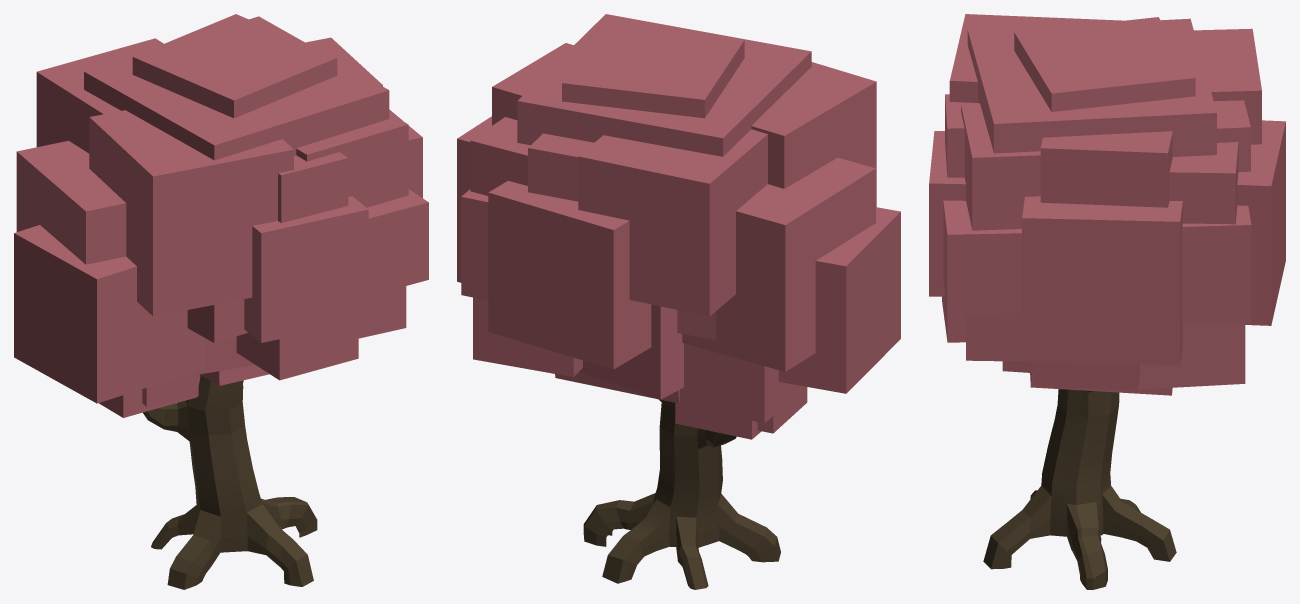
The model's file is Orticon_Tree.fbx.
The picture shows the model from 3 angles, left to right: view 1: azimuth 30°, elevation 25°; view 2: azimuth 150°, elevation 25°; view 3: azimuth 270°, elevation 25°; orthographic projection. The views are drawn at different scales.
Parts seen in each view (by area): view 1: Orticon_Foliage, Orticon_Trunk; view 2: Orticon_Foliage, Orticon_Trunk; view 3: Orticon_Foliage, Orticon_Trunk.
Part boxes in pixels (x1=…): Orticon_Foliage: x1=14, y1=14, x2=428, y2=417; Orticon_Trunk: x1=143, y1=375, x2=317, y2=589; Orticon_Foliage: x1=457, y1=14, x2=900, y2=439; Orticon_Trunk: x1=583, y1=399, x2=780, y2=589; Orticon_Foliage: x1=929, y1=14, x2=1285, y2=395; Orticon_Trunk: x1=983, y1=389, x2=1176, y2=589.
Size of the model in its own units: 387 by 503 by 324.
